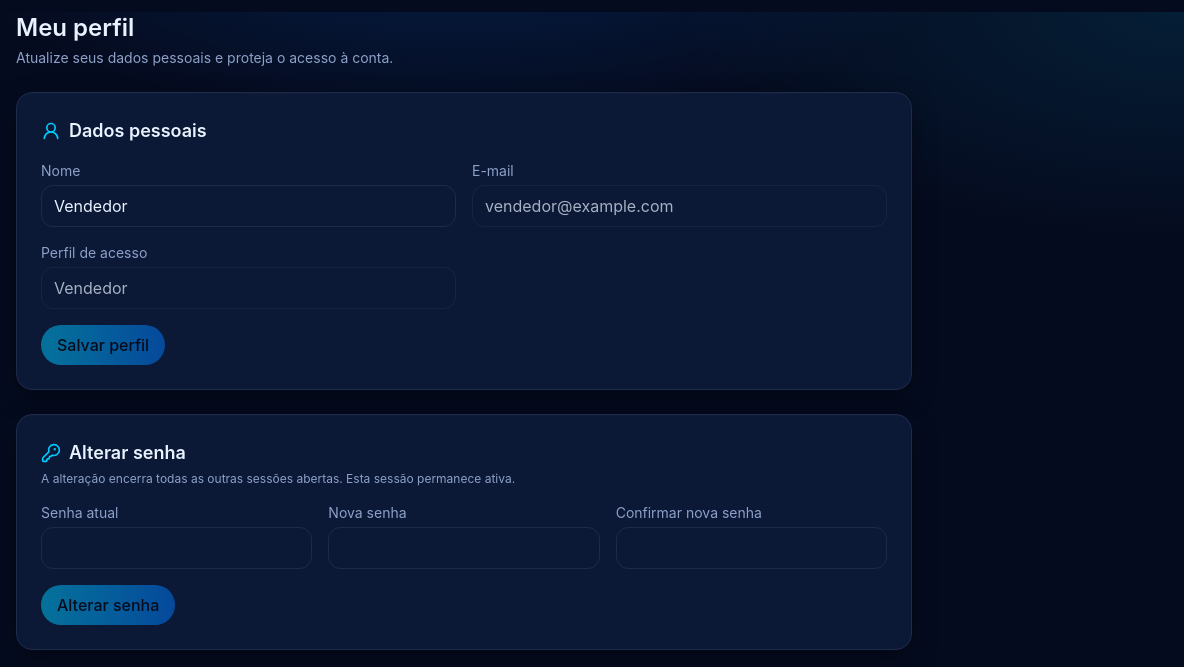
Test: ProfilePage › atualiza o nome e recarrega o usuário autenticado
The image size is (1184, 667).
Replace the text in the field labelled "Nome" with "Novo Nome": (248, 206) [41, 185, 456, 227]
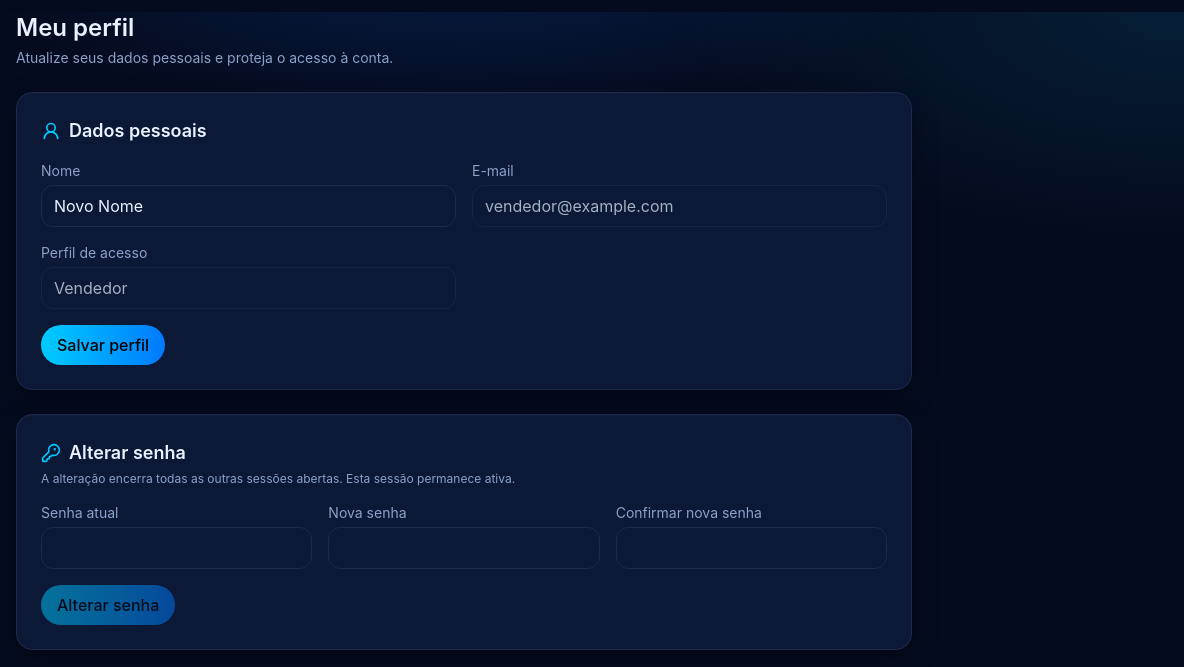
Click the button "Salvar perfil": (103, 345) [41, 325, 165, 365]
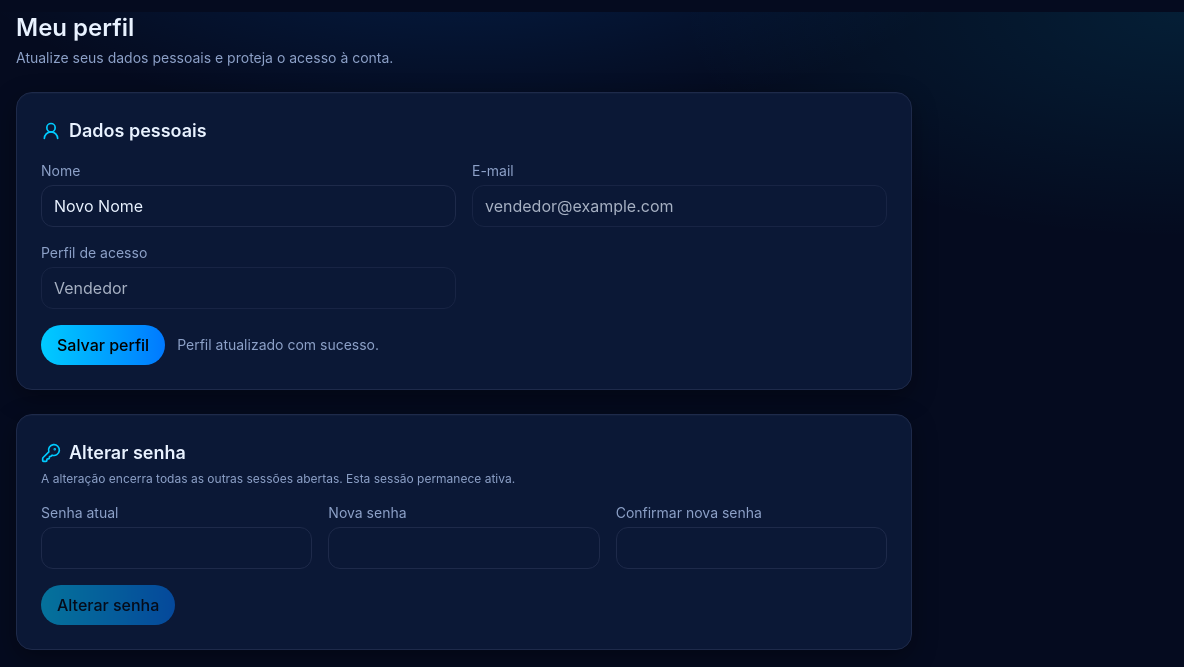
Now the text "Perfil atualizado com sucesso." is shown, box [177, 335, 379, 355]
